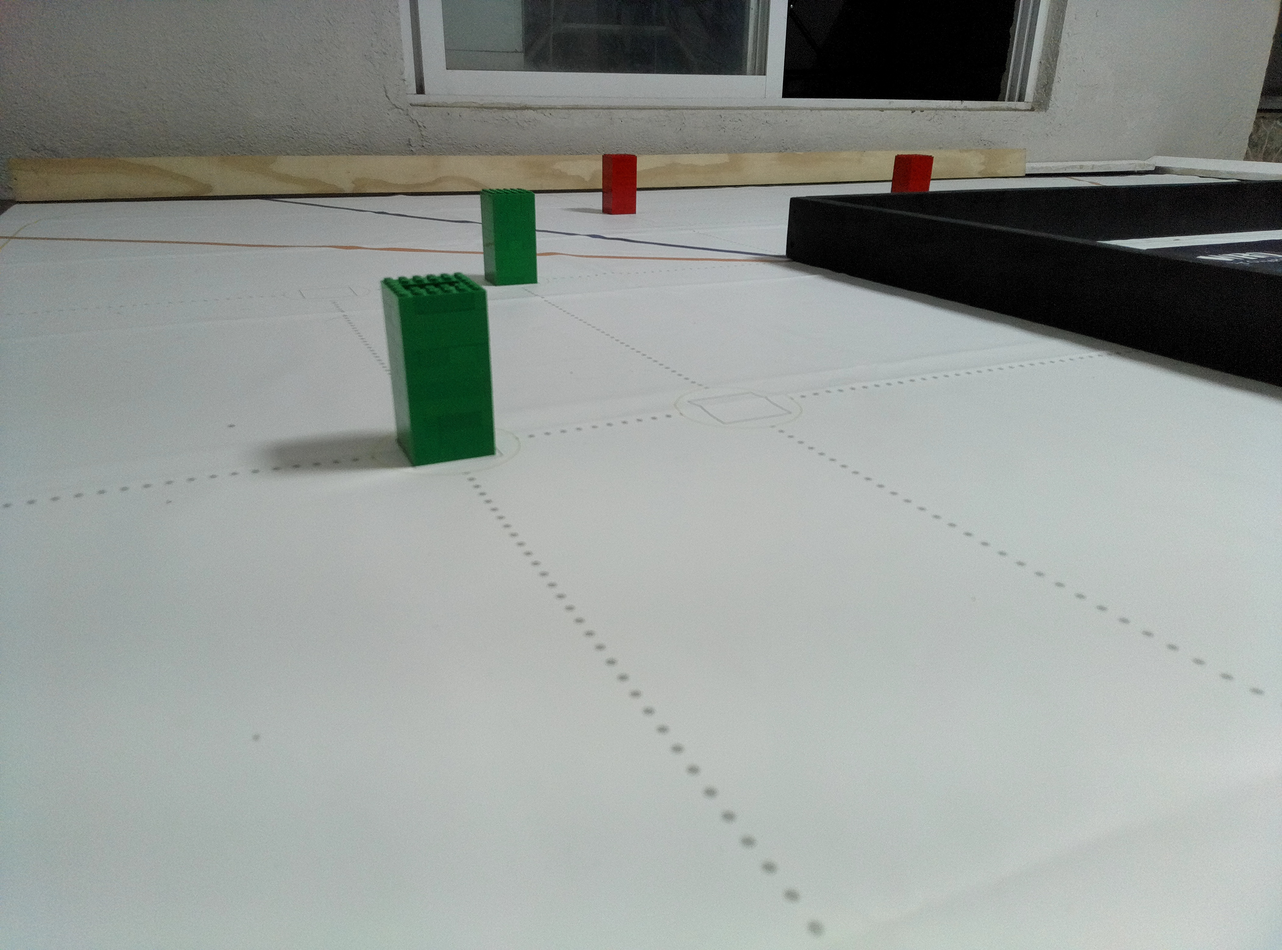greenbox: (379, 273, 497, 466), (479, 188, 537, 285)
redbox: (602, 153, 637, 215), (890, 154, 934, 192)
